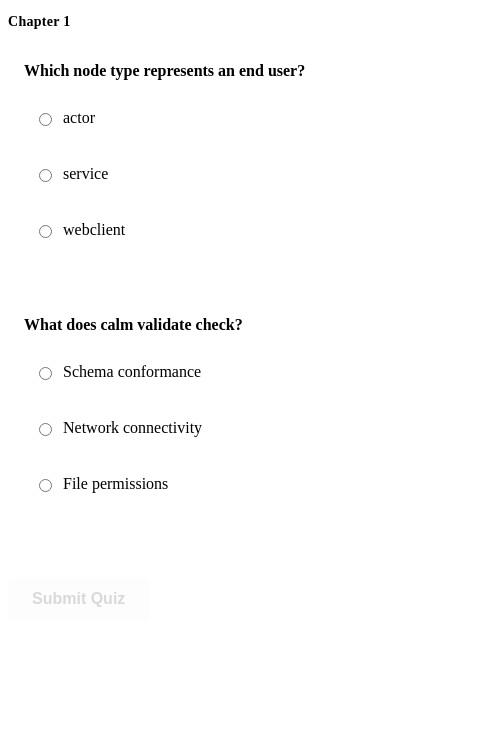
Test: Quiz › Test 4 (submit, mixed): Correct/Incorrect badges and explanations visible after mixed answers
Click the radio button labelled "actor": (46,120) 39,113 -> 52,126
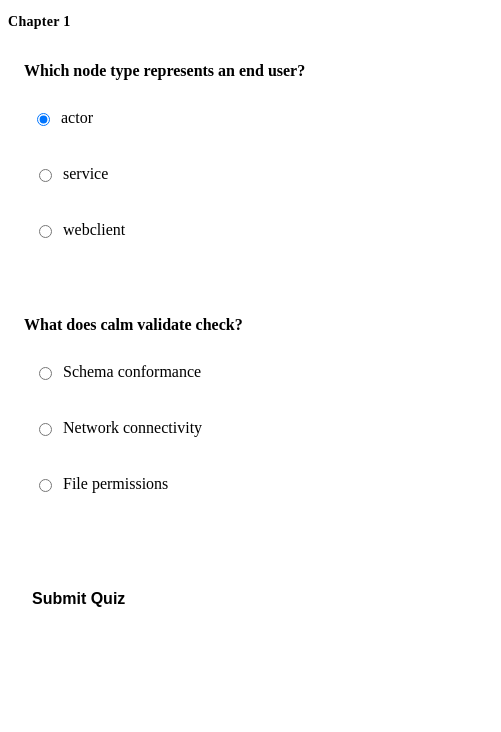
Click the radio button labelled "Network connectivity": (46,430) 39,423 -> 52,436
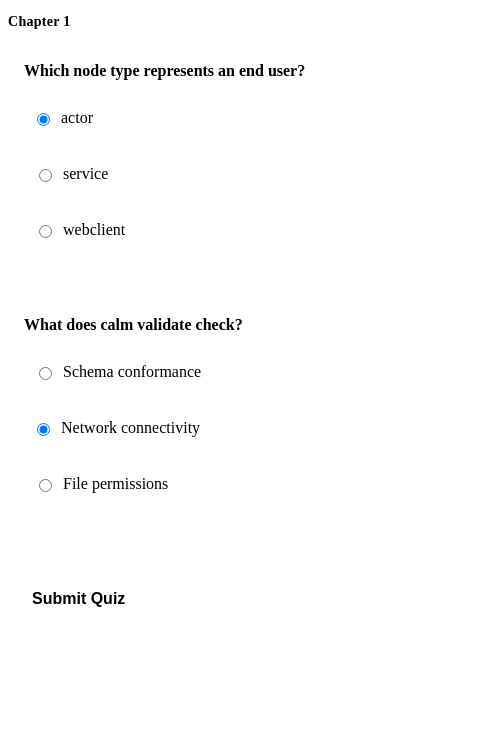
Click the button "Submit Quiz": (79,599) 8,578 -> 149,620
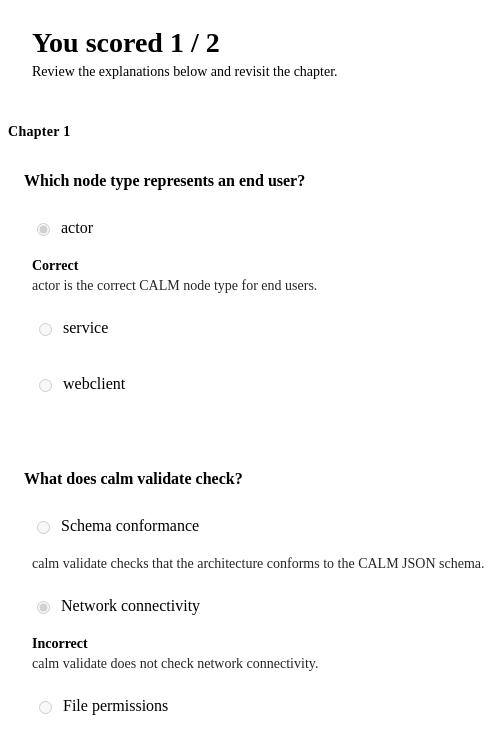
Expected: the text "Correct" is shown, 32,258 -> 78,273
Expected: the text "Incorrect" is shown, 32,636 -> 88,651
Expected: the text "actor is the correct CALM node type for end users." is shown, 32,278 -> 317,293
